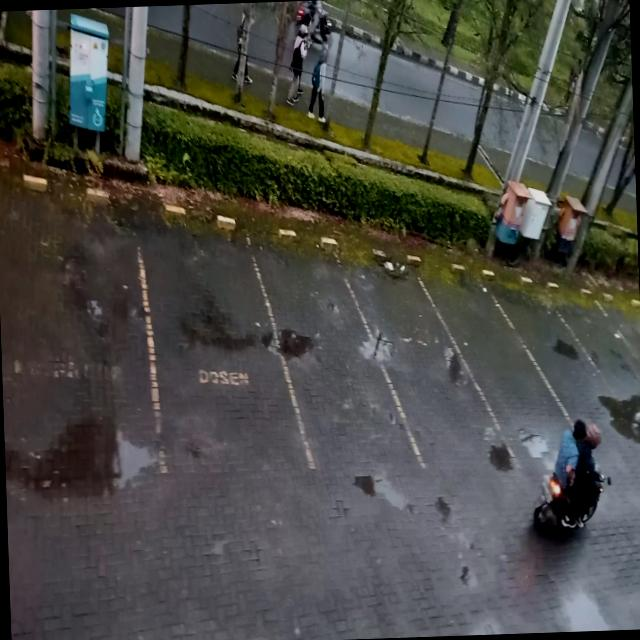free: (0, 170, 163, 500), (142, 197, 290, 479), (274, 219, 384, 477), (372, 242, 471, 473), (455, 261, 537, 458), (526, 268, 604, 454)
